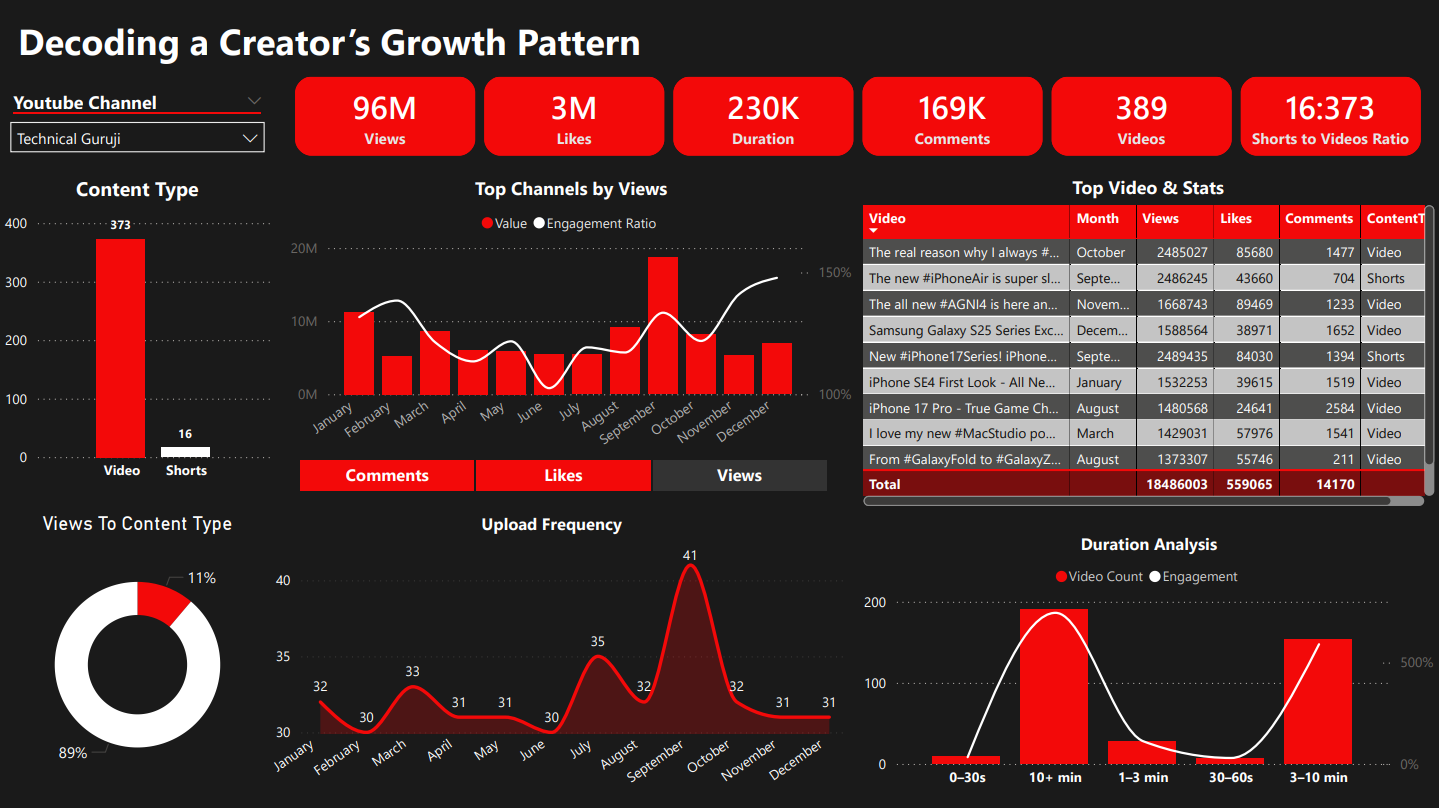

What the dashboard file says about the page in this screenshot:
{"tool":"powerbi","page":{"name":"3","canvas":[1280,720],"ordinal":2},"visuals":[{"type":"slicer","fields":{"Values":["yt_data_videos.channelName"]},"box":[0,75.9,245.8,68.1],"z":0},{"type":"clusteredColumnChart","title":"Content Type","fields":{"Category":["yt_data_videos.ContentType"],"Y":["yt_data_videos.isShort"]},"box":[0,157,245.8,281.2],"z":1000},{"type":"cardVisual","fields":{"Data":["yt_data_videos.views","yt_data_videos.likes","yt_data_videos.duration","yt_data_videos.comments","yt_data_videos.videoID","yt_data_videos.Shorts Ratio %"]},"box":[245.8,51.8,1034.2,105.2],"z":2000},{"type":"lineClusteredColumnComboChart","fields":{"Category":["yt_data_videos.publishedDate.Variation.Date Hierarchy.Month"],"Y":["Metric Selector.Selected Metric Value"],"Y2":["yt_data_videos.engangementRatio"]},"box":[253.8,158,509.2,280.5],"z":3000},{"type":"donutChart","title":"Views To Content Type","fields":{"Y":["yt_data_videos.views"],"Series":["yt_data_videos.ContentType"]},"box":[0,456.4,245.6,252.8],"z":4000},{"type":"slicer","fields":{"Values":["Metric Selector.Metric"]},"box":[241.5,402.8,517.5,35.4],"z":5000},{"type":"tableEx","title":"Top Video & Stats","fields":{"Values":["yt_data_videos.videoTitle","yt_data_videos.publishedDate.Variation.Date Hierarchy.Month","yt_data_videos.views","yt_data_videos.likes","yt_data_videos.comments","yt_data_videos.ContentType"]},"box":[762,157,518,299],"z":6000},{"type":"lineChart","title":"Upload Frequency","fields":{"Category":["yt_data_videos.publishedDate.Variation.Date Hierarchy.Month"],"Y":["yt_data_videos.videoID"]},"box":[222.5,456.3,536.5,263.9],"z":7000},{"type":"lineClusteredColumnComboChart","title":"Duration Analysis","fields":{"Category":["yt_data_videos.Duration Category"],"Y":["Metric Selector.Video Count"],"Y2":["yt_data_videos.engangementRatio"]},"box":[763.3,473.5,516.7,236.3],"z":8000},{"type":"textbox","box":[11.5,9.6,978.3,59.6],"z":10000}]}

Visuals, with their boxes in screenshot pixels (x1, y1, x2, y2), scaled from the page's 1280x720 canvas onto the 1439x808 screenshot:
slicer - yt_data_videos.channelName: crop(0, 85, 276, 162)
"Content Type" clusteredColumnChart: crop(0, 176, 276, 492)
cardVisual - yt_data_videos.views x yt_data_videos.likes: crop(276, 58, 1438, 176)
lineClusteredColumnComboChart - yt_data_videos.publishedDate.Variation.Date Hierarchy.Month x Metric Selector.Selected Metric Value: crop(285, 177, 858, 492)
"Views To Content Type" donutChart: crop(0, 512, 276, 796)
slicer - Metric Selector.Metric: crop(271, 452, 853, 492)
"Top Video & Stats" tableEx: crop(857, 176, 1438, 512)
"Upload Frequency" lineChart: crop(250, 512, 853, 807)
"Duration Analysis" lineClusteredColumnComboChart: crop(858, 531, 1438, 797)
textbox: crop(13, 11, 1113, 78)
